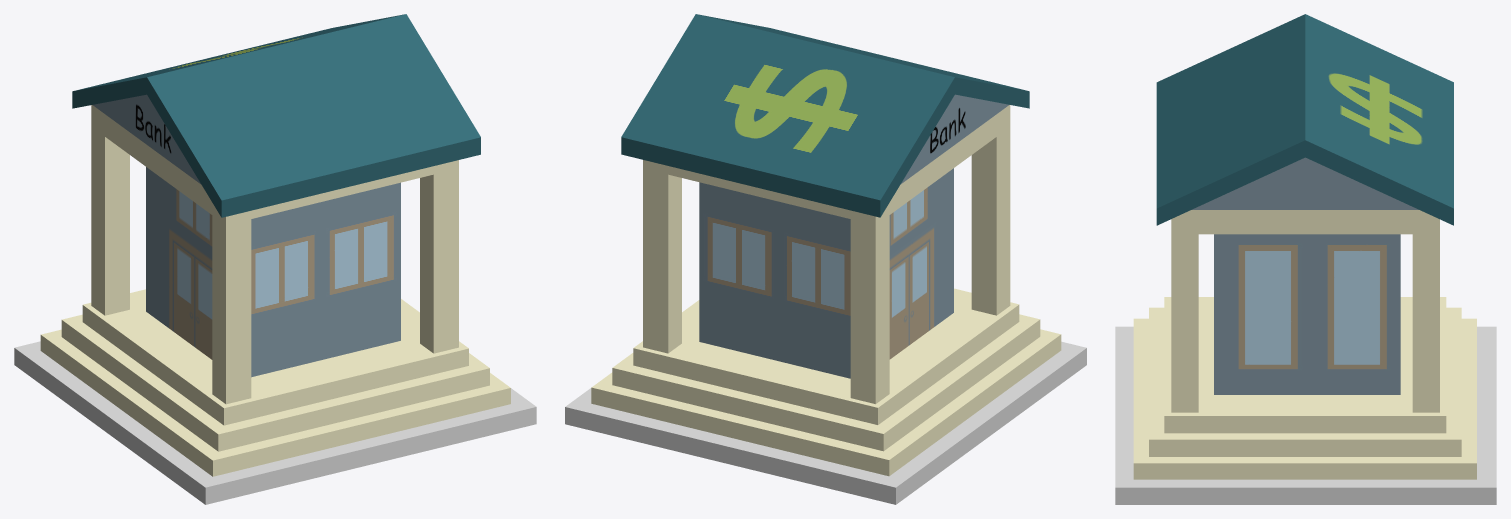
File: Bank01_1.FBX
3 renders of one model, left to right at view 1: azimuth 30°, elevation 25°; view 2: azimuth 150°, elevation 25°; view 3: azimuth 270°, elevation 25°, orthographic.
Parts seen in each view (by area): view 1: Box004, Box001; view 2: Box004, Box001; view 3: Box004, Box001.
Part boxes in pixels (box(x1,y1,x2,y2)): Box004: box(40, 14, 510, 476); Box001: box(14, 341, 536, 504); Box004: box(591, 14, 1061, 476); Box001: box(565, 341, 1086, 504); Box004: box(1133, 14, 1476, 479); Box001: box(1115, 326, 1496, 504).
Bounding box in the file's own units: 1 × 1.01 × 1.
Materials: 4 (4 with a texture image).
